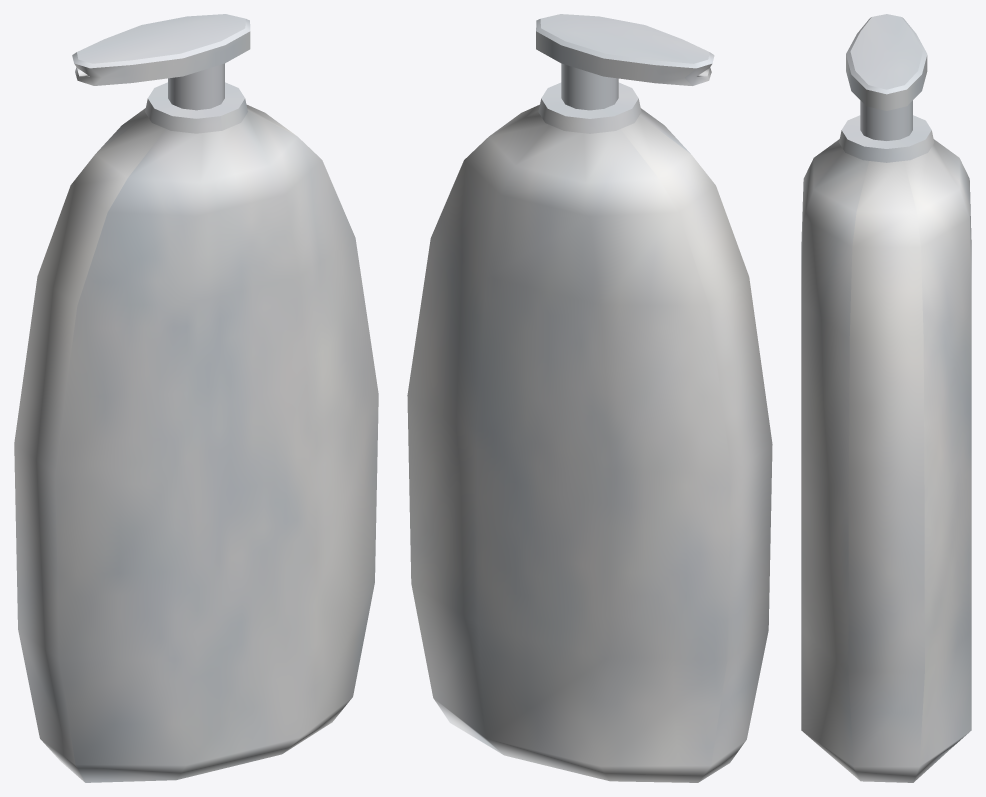
The model's file is item-healing-soap.glb.
The picture shows the model from 3 angles, left to right: view 1: azimuth 30°, elevation 25°; view 2: azimuth 150°, elevation 25°; view 3: azimuth 270°, elevation 25°; orthographic projection. The views are drawn at different scales.
Size of the model in its own units: 0.1114 by 0.2349 by 0.0549.
1 material, 1 textured.
